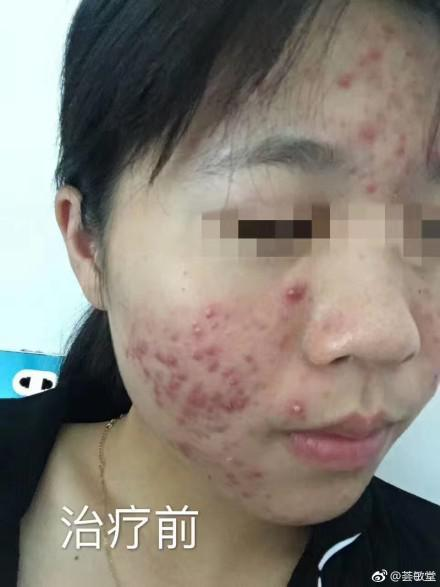fore: (238, 485, 263, 507), (363, 38, 384, 63), (336, 72, 359, 93), (289, 395, 310, 418), (164, 375, 189, 392), (356, 177, 377, 197), (217, 466, 238, 486), (350, 122, 375, 138), (248, 468, 267, 489), (129, 330, 148, 351), (150, 382, 168, 404), (164, 345, 182, 366), (179, 403, 200, 420), (206, 420, 228, 434), (199, 301, 217, 318), (150, 344, 164, 365), (207, 357, 219, 381), (285, 283, 299, 302), (179, 435, 191, 457), (203, 339, 220, 354), (187, 382, 202, 399), (222, 375, 239, 390), (221, 399, 235, 417), (392, 129, 407, 145), (234, 395, 250, 409), (190, 319, 207, 332), (169, 368, 187, 379), (392, 145, 406, 159), (190, 343, 203, 358), (212, 388, 224, 404), (146, 361, 156, 378), (221, 361, 234, 373)
